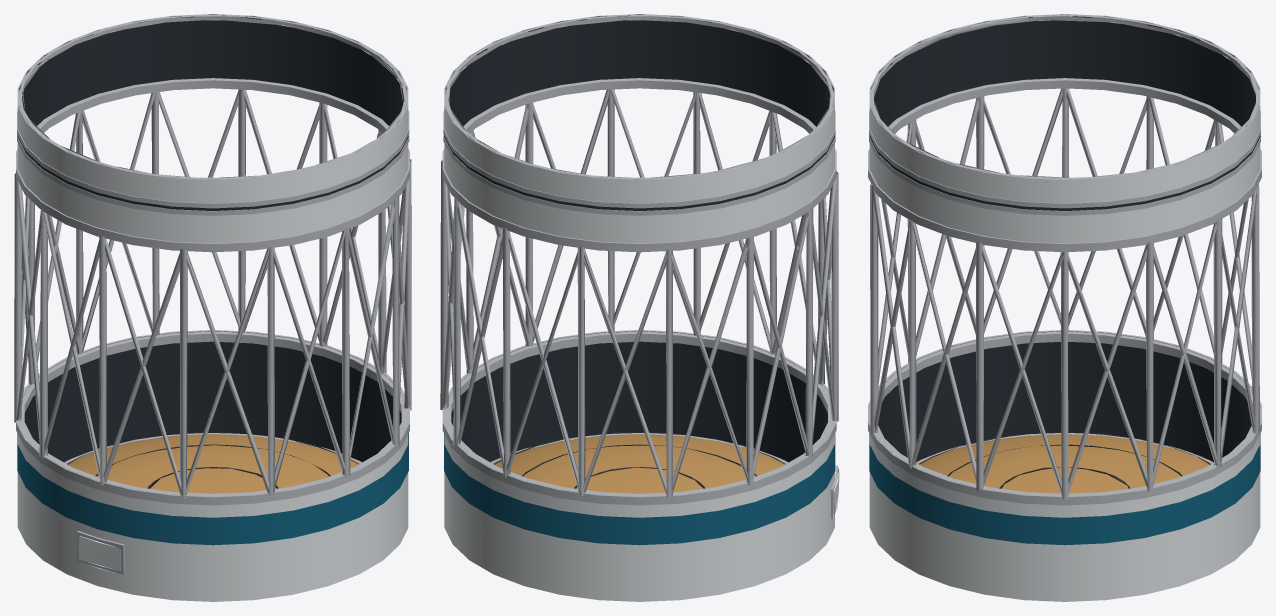
File: interstage_hot_staging_d54.glb
3 renders of one model, left to right at view 1: azimuth 30°, elevation 25°; view 2: azimuth 150°, elevation 25°; view 3: azimuth 270°, elevation 25°, orthographic.
Parts seen in each view (by area): view 1: interstage_hot_staging_d54_mesh; view 2: interstage_hot_staging_d54_mesh; view 3: interstage_hot_staging_d54_mesh.
Boxes of the visible parts, <box> form: interstage_hot_staging_d54_mesh: <box>14,14,411,601</box>; interstage_hot_staging_d54_mesh: <box>440,14,839,601</box>; interstage_hot_staging_d54_mesh: <box>868,14,1261,601</box>.
Bounding box in the file's own units: 5.47 × 6.4 × 5.42.
